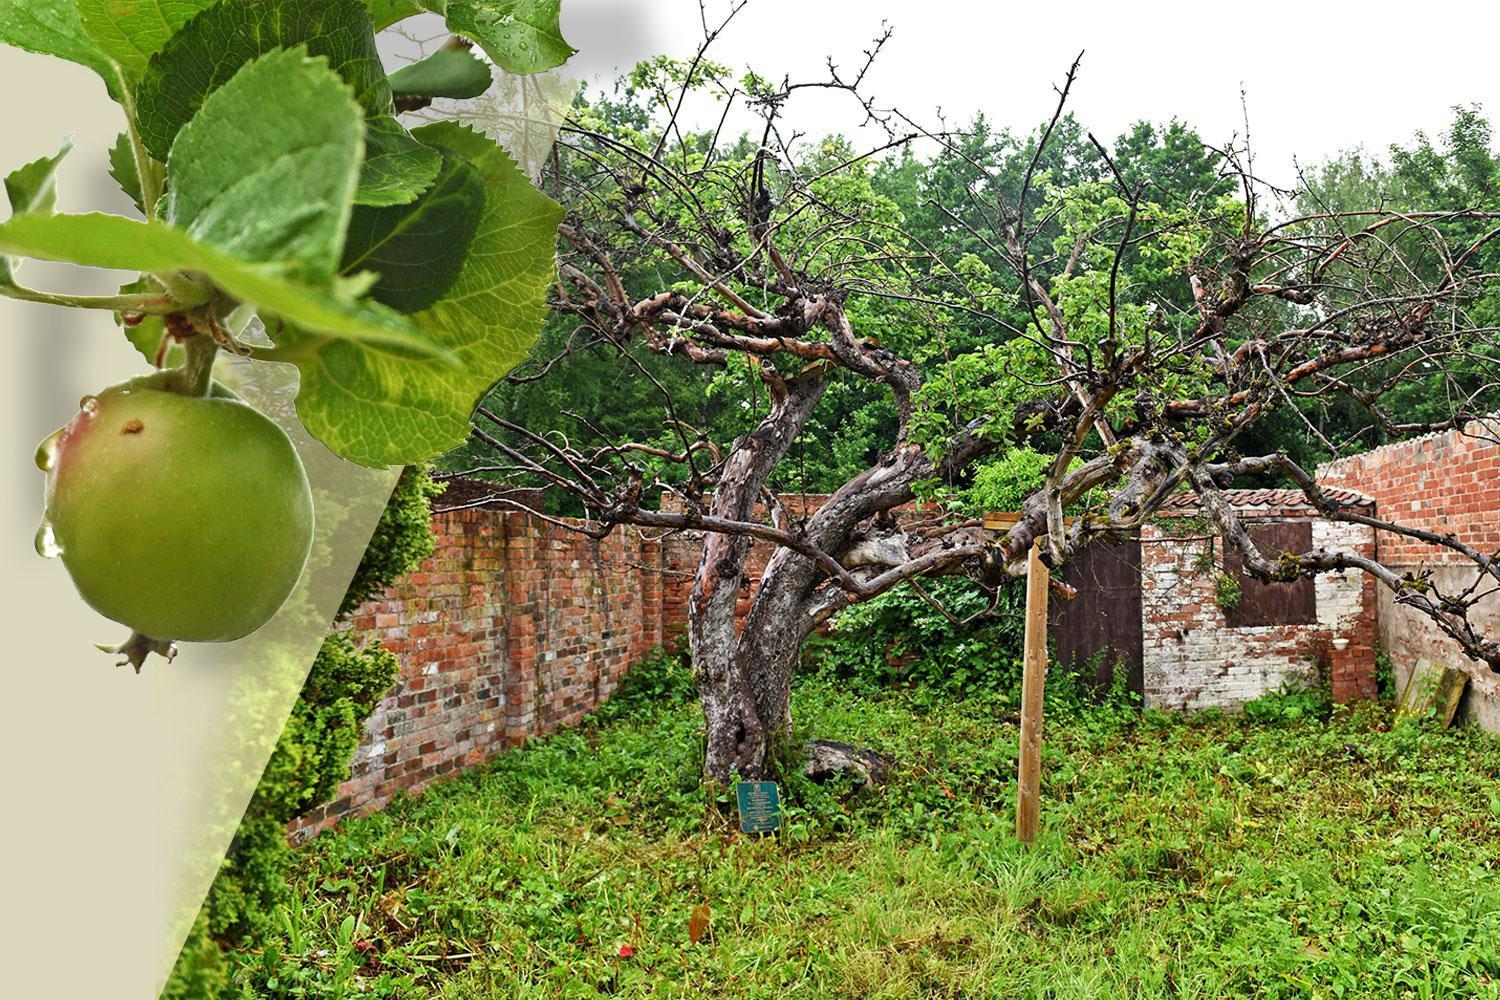apple: (35, 381, 315, 653)
